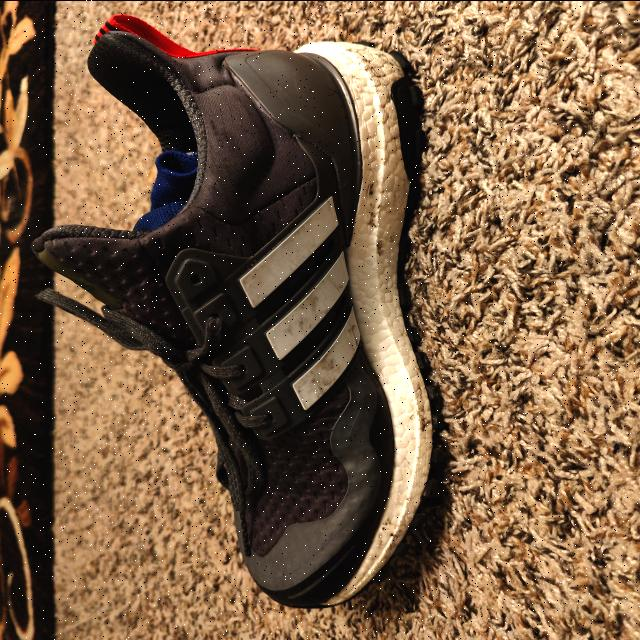black shoes: (38, 23, 414, 603)
